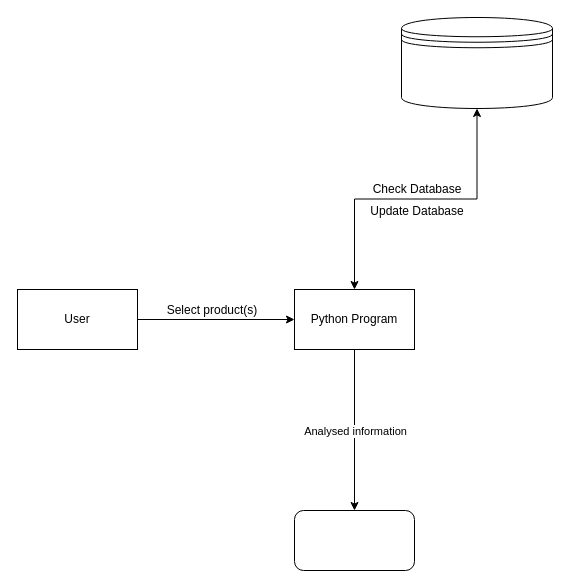
The diagram is 570 pixels wide and 588 high, and some of its shapes have lost their labels. The shapes that lost their labels are listed below. From the top down, each one's centre as x and y in pixels, then its label:
At point (476, 62): "PostgresSQL".
At point (354, 540): "Frontend".
